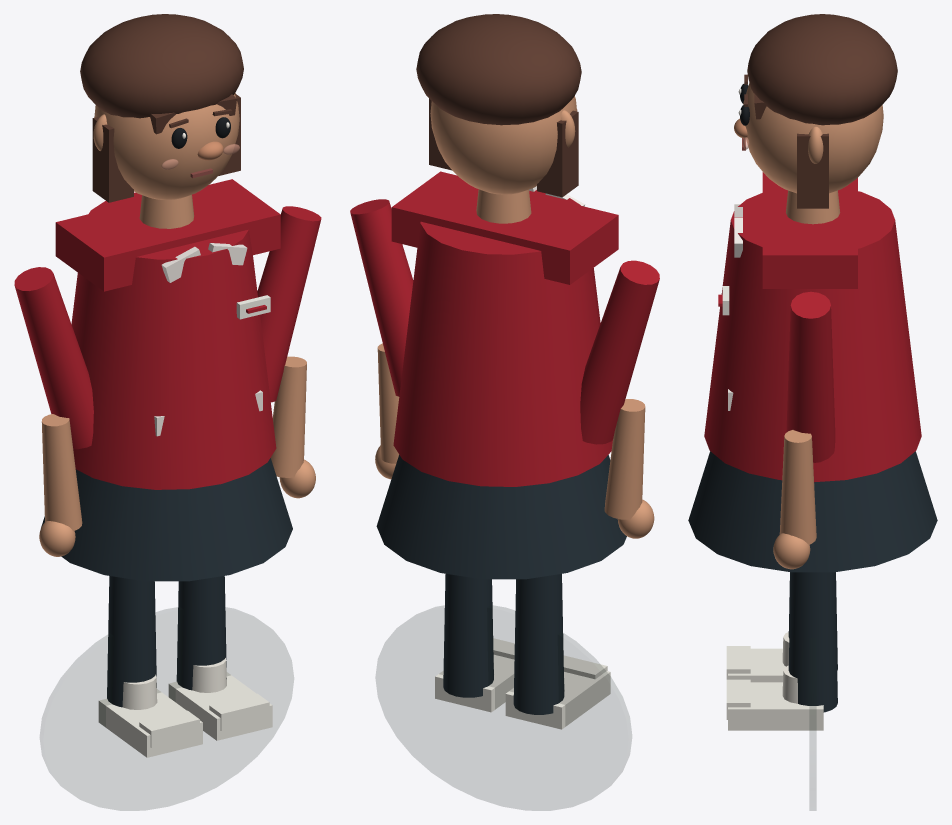
The model's file is staff_01_counter.glb.
3 views of the same model, side by side, from view 1: azimuth 30°, elevation 25°; view 2: azimuth 150°, elevation 25°; view 3: azimuth 270°, elevation 25° (orthographic). The views are drawn at different scales.
Parts seen in each view (by area): view 1: torso, contact_shadow, skirt, hair_cap, shoulder_line, head, upper_arm_-0.235, upper_arm_0.235, leg_-0.075, leg_0.075, forearm_-0.235, forearm_0.235 (+11 smaller); view 2: torso, contact_shadow, skirt, hair_cap, shoulder_line, upper_arm_-0.235, head, leg_-0.075, upper_arm_0.235, leg_0.075, forearm_-0.235, shoe_-0.075 (+6 smaller); view 3: torso, skirt, hair_cap, shoulder_line, upper_arm_0.235, head, leg_0.075, forearm_0.235, shoe_0.075, side_hair_0.115, shoe_-0.075, neck (+5 smaller).
Part boxes in pixels (x1,y1,x2,y2): torso: (71,192,276,489); contact_shadow: (40,607,293,810); skirt: (41,458,292,581); hair_cap: (80,14,243,118); shoulder_line: (55,179,280,291); head: (94,94,239,199); upper_arm_-0.235: (14,267,93,449); upper_arm_0.235: (257,206,321,402); leg_-0.075: (107,576,156,707); leg_0.075: (176,576,226,690); forearm_-0.235: (41,414,82,531); forearm_0.235: (270,356,306,477); torso: (393,190,612,486); contact_shadow: (376,605,631,810); skirt: (376,455,626,579); hair_cap: (416,14,581,125); shoulder_line: (391,171,618,284); upper_arm_-0.235: (580,260,659,444); head: (430,96,576,194); leg_-0.075: (513,574,564,714); upper_arm_0.235: (350,199,413,396); leg_0.075: (443,574,493,697); forearm_-0.235: (604,399,645,519); shoe_-0.075: (505,671,610,729); torso: (704,191,921,482); skirt: (688,451,937,572); hair_cap: (747,14,897,125); shoulder_line: (762,172,857,288); upper_arm_0.235: (786,291,835,462); head: (743,83,883,193); leg_0.075: (788,572,837,712); forearm_0.235: (779,430,816,544); shoe_0.075: (728,682,823,730); side_hair_0.115: (797,133,828,208); shoe_-0.075: (728,648,785,682); neck: (785,190,840,224).
Bounding box in the file's own units: 0.6295 × 1.55 × 0.4559.
